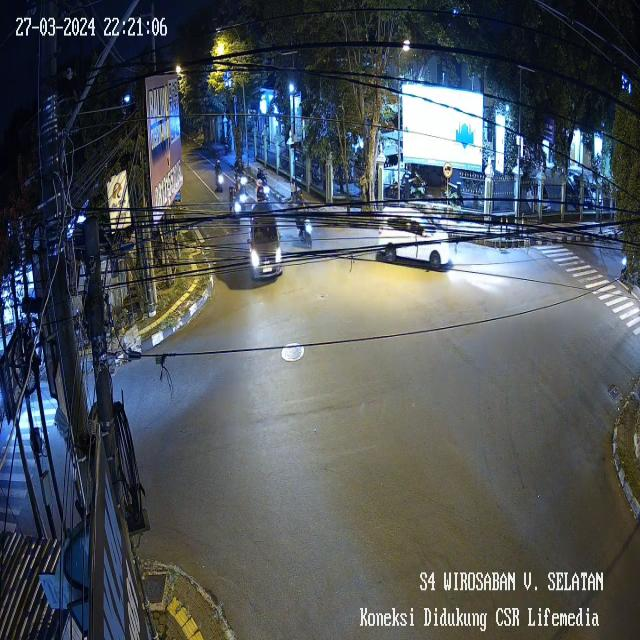car: (373, 201, 453, 272), (245, 196, 287, 287)
motorcycle: (296, 206, 316, 254), (254, 163, 274, 198), (232, 176, 252, 211), (226, 189, 242, 230), (620, 251, 635, 288), (233, 154, 248, 190), (213, 158, 226, 195)
